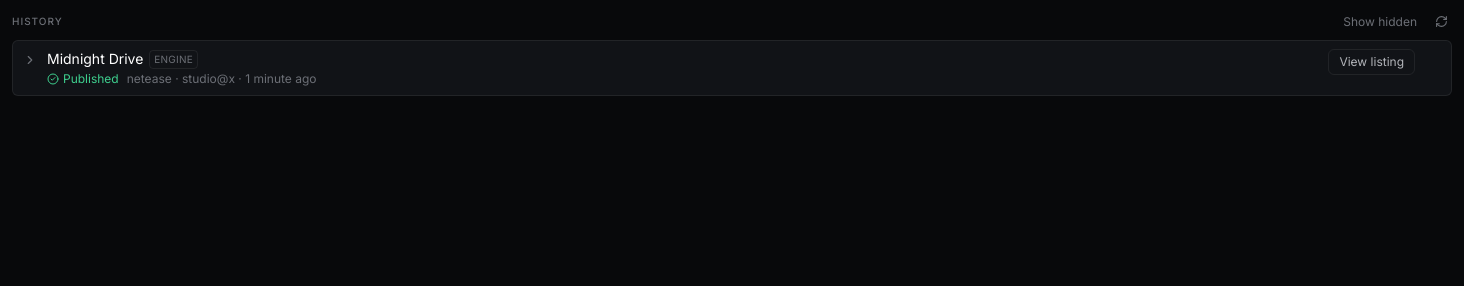
Test case: PublishHistorySection › expands an attempt and lists the field report, flagging needs-user and failed
Check: the text "Midnight Drive" is shown, box left=47, top=49, right=143, bottom=69
Step 1. Click the button named "Show field report" → (30, 60), box left=21, top=51, right=39, bottom=69
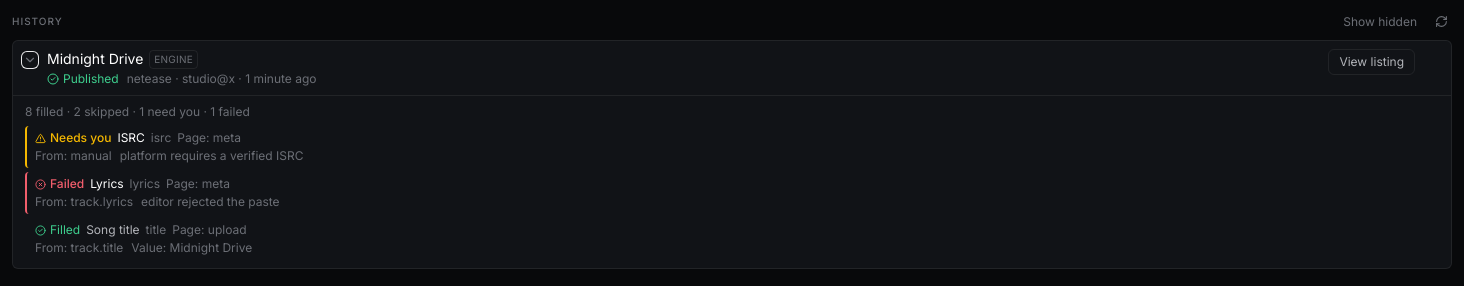
Check: the text "ISRC" is shown, box left=117, top=130, right=145, bottom=146
Check: the text "Needs you" is shown, box left=35, top=130, right=111, bottom=146
Check: the text "Lyrics" is shown, box left=90, top=176, right=124, bottom=192
